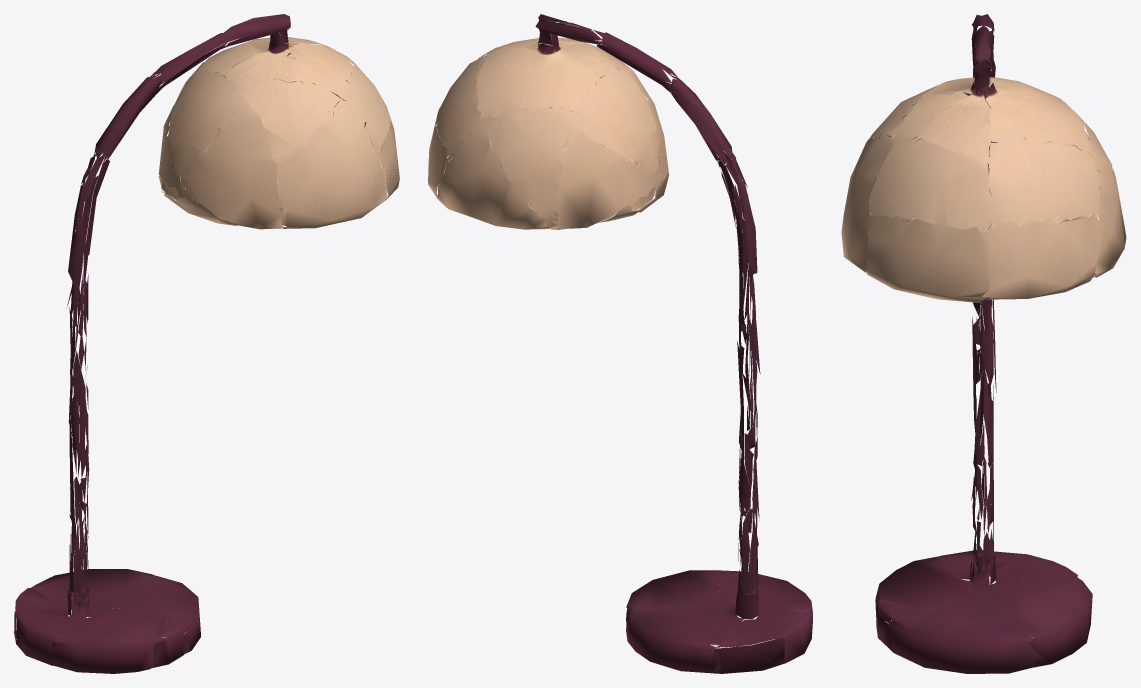
Rendered from arc_floor_lamp.glb.
3 views of the same model, side by side, from view 1: azimuth 30°, elevation 25°; view 2: azimuth 150°, elevation 25°; view 3: azimuth 270°, elevation 25° (orthographic). The views are drawn at different scales.
Visible parts, largest first — view 1: tripo_node_b396fc8e-a766-4e4d-8d45-31f1943dcd3c; view 2: tripo_node_b396fc8e-a766-4e4d-8d45-31f1943dcd3c; view 3: tripo_node_b396fc8e-a766-4e4d-8d45-31f1943dcd3c.
Part boxes in pixels (x1,y1,x2,y2): tripo_node_b396fc8e-a766-4e4d-8d45-31f1943dcd3c: (14,14,399,673); tripo_node_b396fc8e-a766-4e4d-8d45-31f1943dcd3c: (428,14,812,673); tripo_node_b396fc8e-a766-4e4d-8d45-31f1943dcd3c: (841,14,1126,673).
Size of the model in its own units: 1.07 by 1.65 by 0.6309.
1 material, 1 textured.
